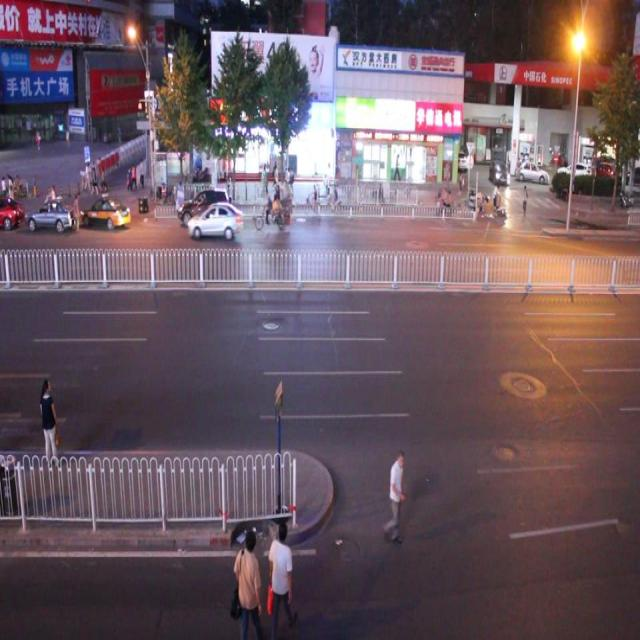car: (186, 198, 243, 242), (175, 184, 230, 228), (78, 192, 132, 233), (22, 199, 78, 234)
